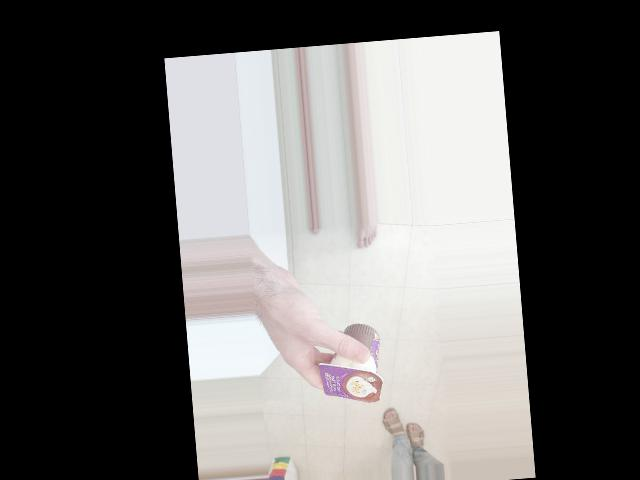milky: (319, 345, 415, 411)
